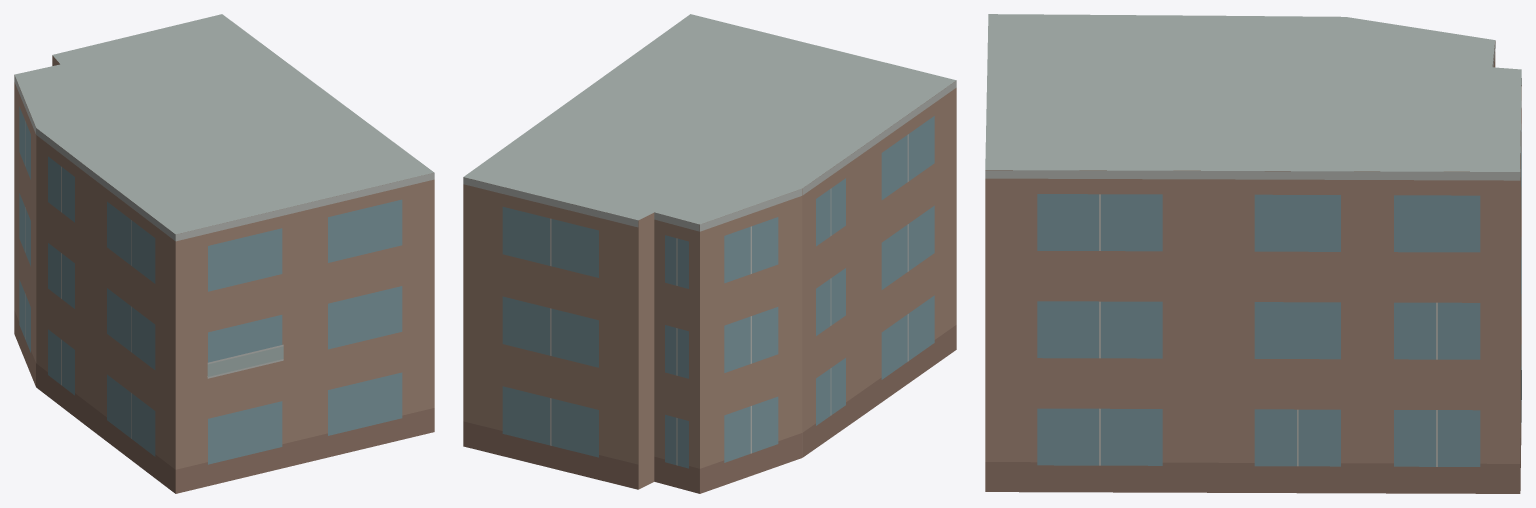
Rendered from survey-upis-32834220.glb.
3 renders of one model, left to right at view 1: azimuth 30°, elevation 25°; view 2: azimuth 150°, elevation 25°; view 3: azimuth 270°, elevation 25°, orthographic. The views are drawn at different scales.
Visible parts, largest first — view 1: survey-upis-32834220.tmp; view 2: survey-upis-32834220.tmp; view 3: survey-upis-32834220.tmp.
Boxes of the visible parts, left/top/right/bottom form: survey-upis-32834220.tmp: left=14, top=14, right=434, bottom=493; survey-upis-32834220.tmp: left=463, top=14, right=956, bottom=493; survey-upis-32834220.tmp: left=985, top=14, right=1521, bottom=493.
Bounding box in the file's own units: 9.64 × 9.15 × 13.83.
